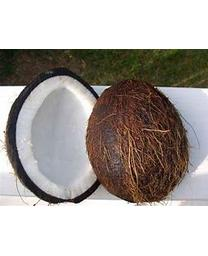coconut: (4, 67, 106, 202), (84, 77, 190, 203)
